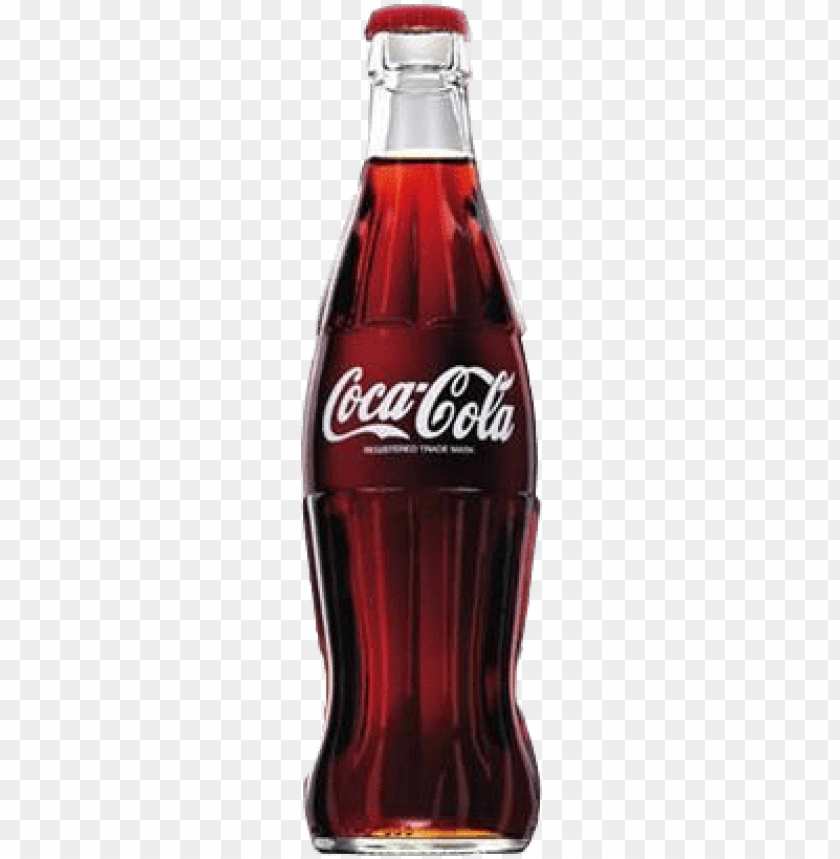coca_cola_bottle: (302, 4, 541, 858)
